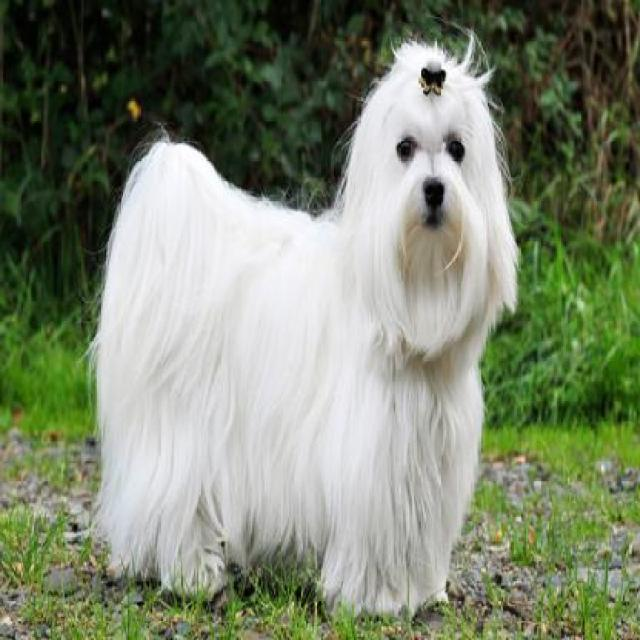Dog: (88, 19, 520, 622)
